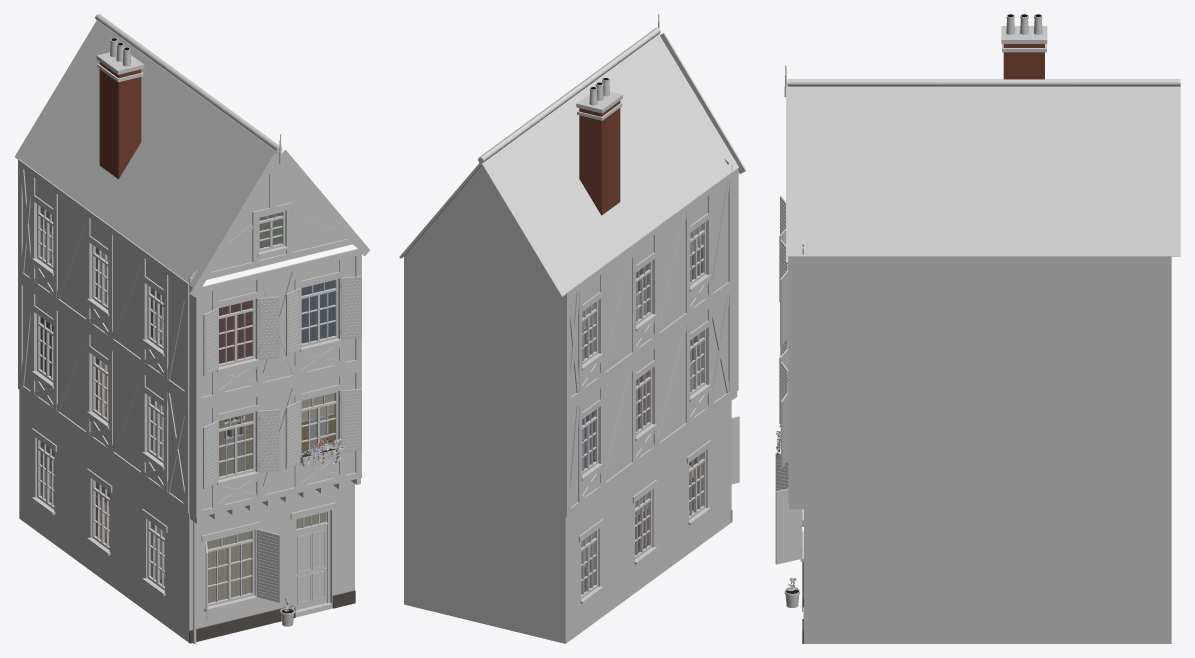
The model's file is StraightEnd_Street2.glb.
The picture shows the model from 3 angles, left to right: view 1: azimuth 30°, elevation 25°; view 2: azimuth 150°, elevation 25°; view 3: azimuth 270°, elevation 25°; orthographic projection. The views are drawn at different scales.
Visible parts, largest first — view 1: StraightEnd_Street2; view 2: StraightEnd_Street2; view 3: StraightEnd_Street2.
Part boxes in pixels (left/top/right/bottom): StraightEnd_Street2: left=14, top=14, right=370, bottom=643; StraightEnd_Street2: left=399, top=14, right=746, bottom=643; StraightEnd_Street2: left=775, top=14, right=1180, bottom=643.
Size of what is drawn, in the model's own units: 4.9 by 13.41 by 8.82.
